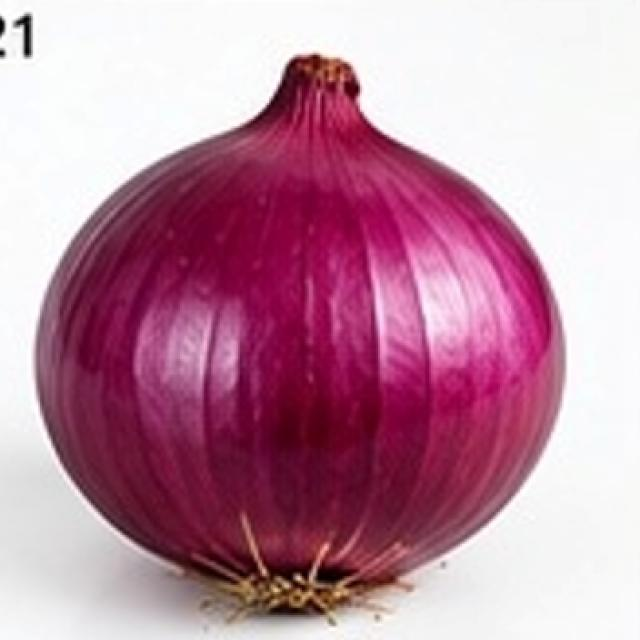healthy: (11, 2, 570, 622)
